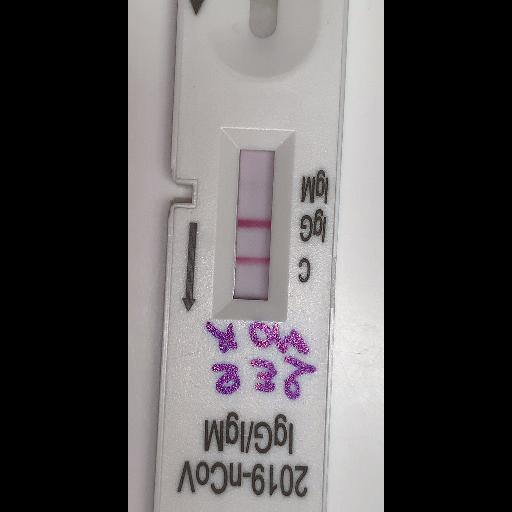Pos: (152, 0, 351, 511)
